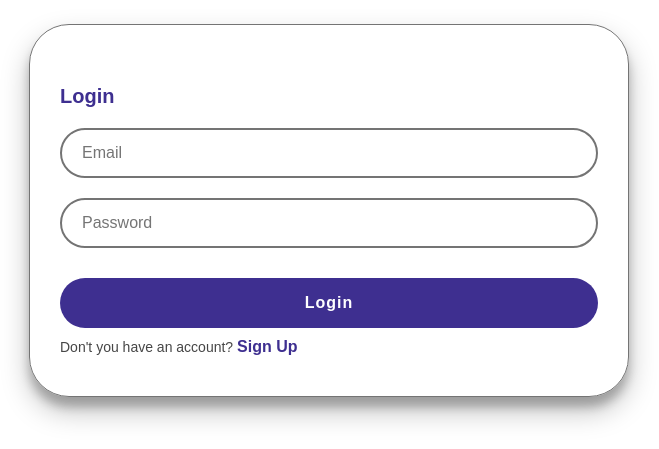
shows error when user enters an invalid email
Type "failgmail.com" into the field with test id "email". click: (329, 153)
box: [60, 128, 598, 178]
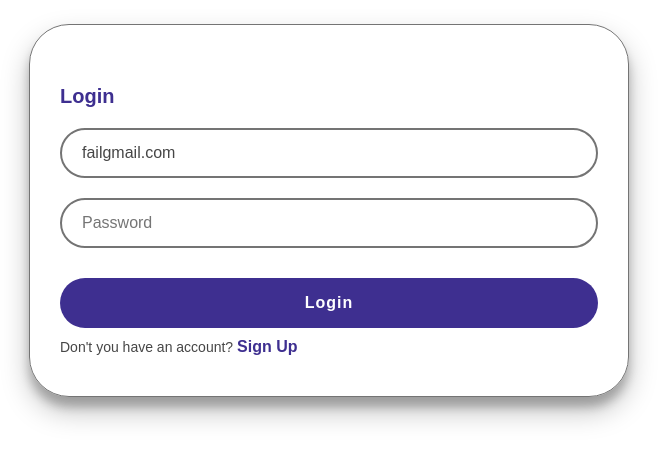
Leave the field with test id "email", box [60, 128, 598, 178]
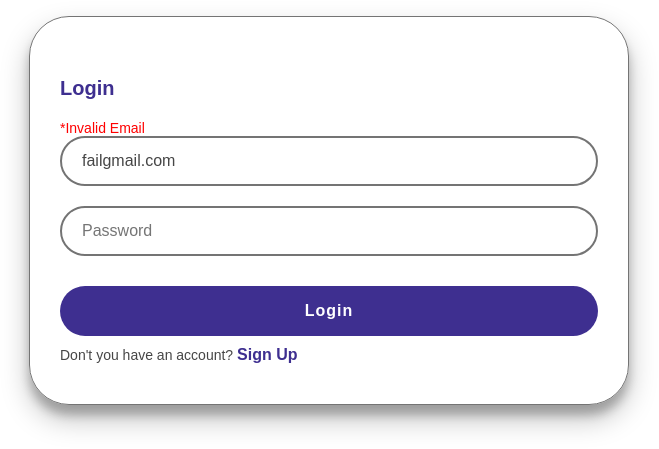
expect the text "*Invalid Email" is shown: met, box [60, 120, 145, 136]
